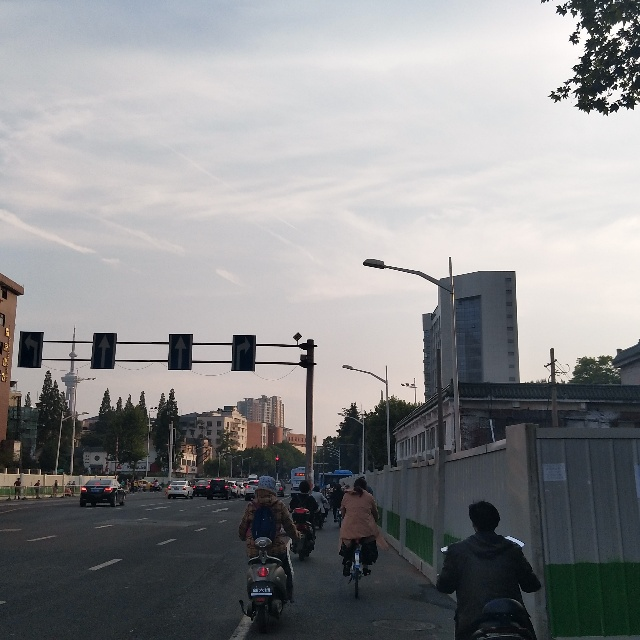left: (17, 331, 44, 369)
right: (231, 335, 256, 372)
straight: (91, 333, 117, 369), (168, 334, 193, 370)
